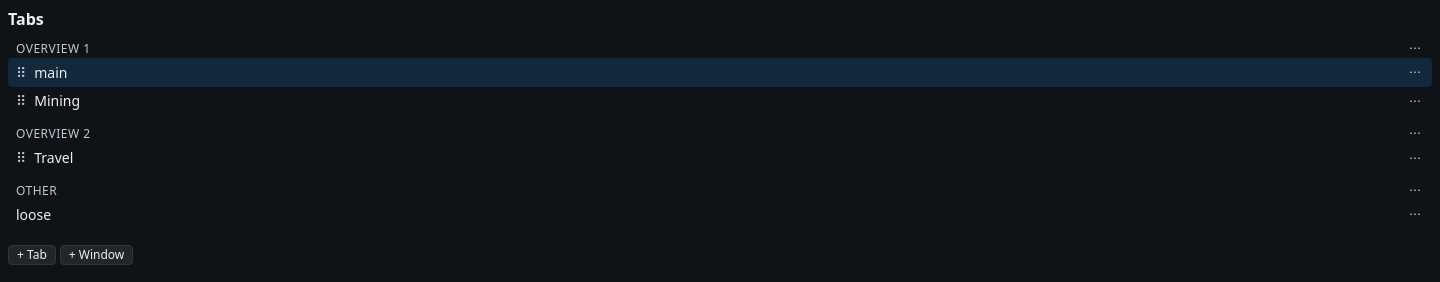
it: the row menu › Move up is disabled on a window's first tab
The image size is (1440, 282).
Step 1. Click the button named "More actions" → (1415, 73), box [1406,62,1424,83]
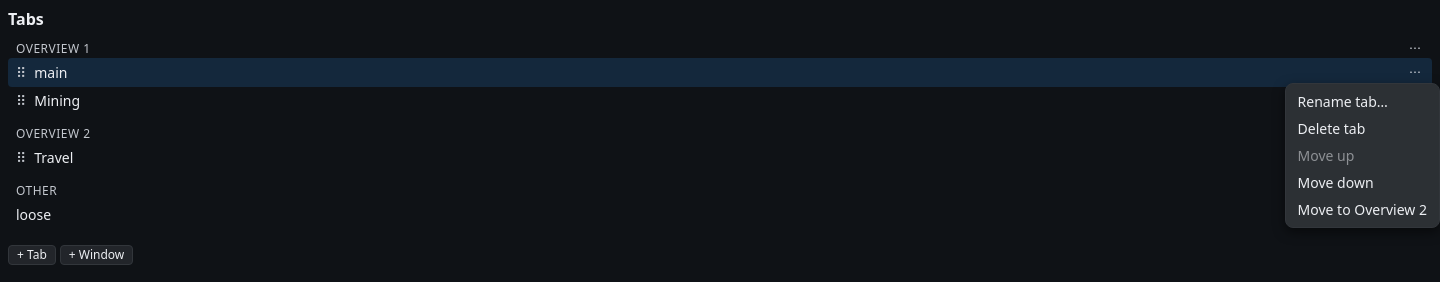
Expected: the menu item "Move up" is disabled, [1290,142,1435,169]
Expected: the menu item "Move down" is enabled, [1290,169,1435,196]
